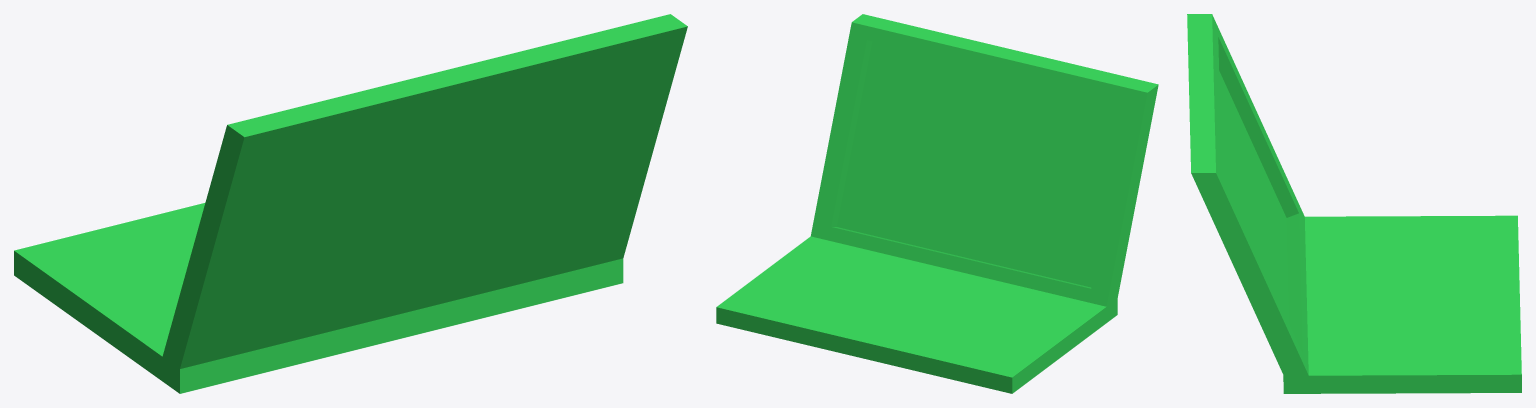
Rendered from Laptop.fbx.
3 renders of one model, left to right at view 1: azimuth 30°, elevation 25°; view 2: azimuth 150°, elevation 25°; view 3: azimuth 270°, elevation 25°, orthographic. The views are drawn at different scales.
Visible parts, largest first — view 1: Cube.114; view 2: Cube.114; view 3: Cube.114.
Part boxes in pixels (box(x1,y1,x2,y2)): Cube.114: box(14, 14, 687, 393); Cube.114: box(716, 14, 1158, 393); Cube.114: box(1187, 14, 1521, 393).
Bounding box in the file's own units: 87.57 × 56.28 × 77.17.
